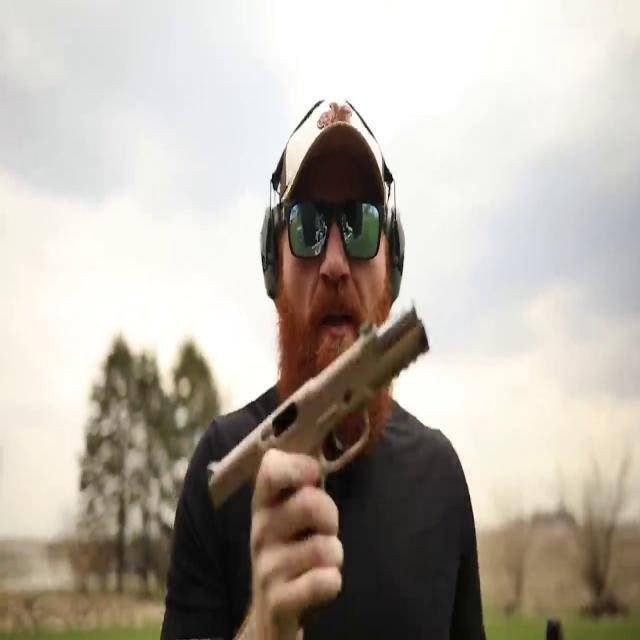Handgun: (205, 292, 438, 556)
